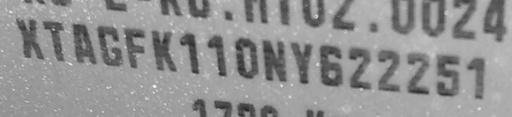letter: (150, 26, 180, 75), (14, 17, 46, 62), (316, 42, 346, 89), (287, 38, 315, 87), (96, 23, 126, 68), (374, 48, 404, 93), (347, 44, 375, 91), (42, 19, 70, 64), (70, 21, 98, 66), (122, 26, 150, 71), (261, 38, 289, 83), (405, 49, 431, 96), (463, 54, 489, 101), (234, 36, 260, 81), (434, 52, 460, 97), (178, 29, 202, 76), (205, 33, 229, 78)
